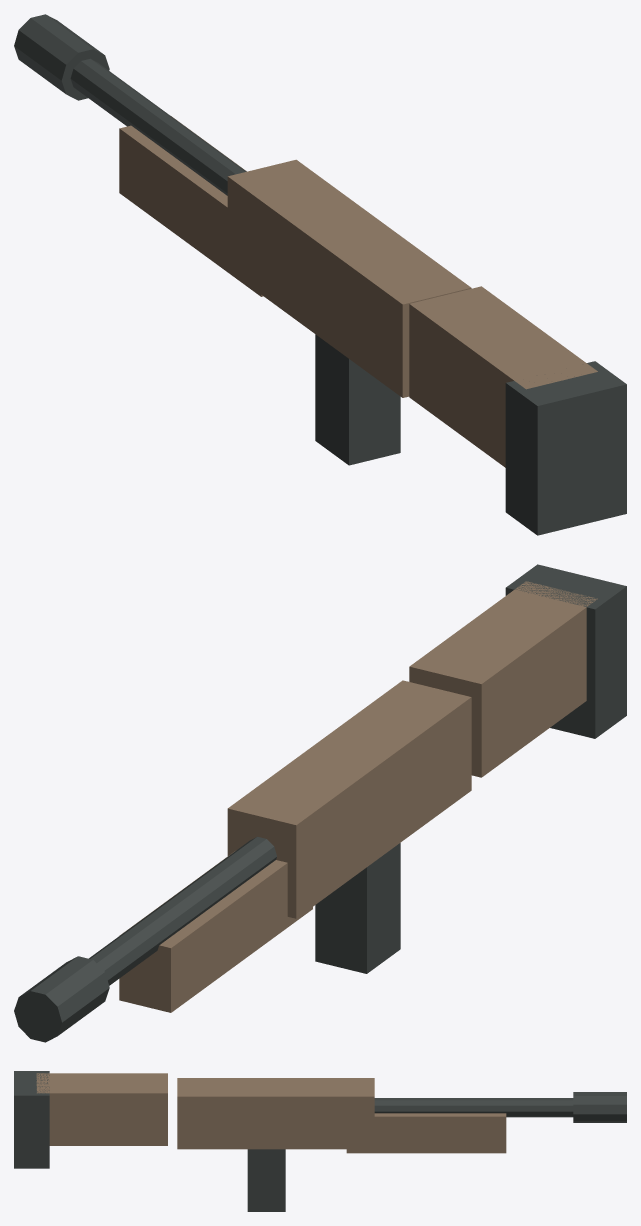
The model's file is weapon_pump12.glb.
3 views of the same model, one above another, from view 1: azimuth 30°, elevation 25°; view 2: azimuth 150°, elevation 25°; view 3: azimuth 270°, elevation 25° (orthographic). The views are drawn at different scales.
Visible parts, largest first — view 1: receiver_0, butt_5, stock_4, pump_6, grip_3, barrel_1, muzzle_2; view 2: receiver_0, stock_4, pump_6, butt_5, grip_3, barrel_1, muzzle_2; view 3: receiver_0, stock_4, pump_6, barrel_1, butt_5, grip_3, muzzle_2.
Boxes of the visible parts, x1,y1,x2,y2 form: receiver_0: [227, 159, 471, 397]; butt_5: [505, 361, 626, 535]; stock_4: [409, 286, 597, 467]; pump_6: [119, 116, 263, 296]; grip_3: [315, 334, 400, 465]; barrel_1: [70, 58, 246, 195]; muzzle_2: [14, 14, 109, 100]; receiver_0: [227, 680, 471, 918]; stock_4: [409, 581, 597, 777]; pump_6: [119, 851, 312, 1012]; butt_5: [505, 564, 626, 738]; grip_3: [315, 843, 400, 973]; barrel_1: [89, 836, 276, 985]; muzzle_2: [14, 956, 109, 1042]; receiver_0: [177, 1078, 374, 1149]; stock_4: [36, 1073, 167, 1145]; pump_6: [346, 1113, 506, 1153]; barrel_1: [374, 1098, 573, 1117]; butt_5: [14, 1071, 49, 1168]; grip_3: [247, 1149, 285, 1211]; muzzle_2: [573, 1092, 626, 1122].
Size of the model in its own units: 0.13 by 0.3 by 1.37.
